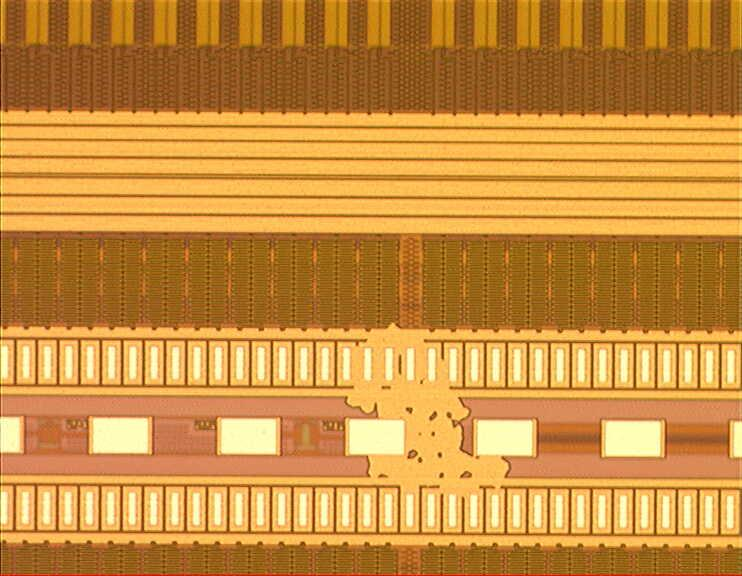BLOCK ETCH: (340, 319, 509, 497)
